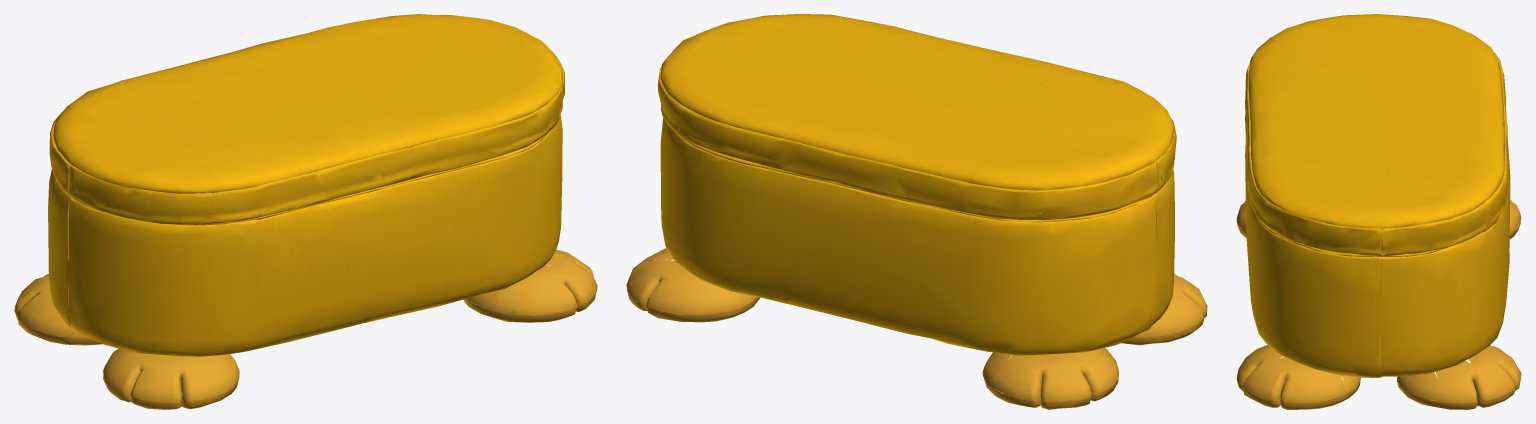
Rendered from 20 - GREJSIMOJS Pouffe with storage - yellow.glb.
3 views of the same model, side by side, from view 1: azimuth 30°, elevation 25°; view 2: azimuth 150°, elevation 25°; view 3: azimuth 270°, elevation 25° (orthographic). The views are drawn at different scales.
Visible parts, largest first — view 1: ASY_ART_10603180_S01_NV01; view 2: ASY_ART_10603180_S01_NV01; view 3: ASY_ART_10603180_S01_NV01.
Boxes of the visible parts, bbox=[...] form: ASY_ART_10603180_S01_NV01: bbox=[14, 14, 597, 409]; ASY_ART_10603180_S01_NV01: bbox=[626, 14, 1207, 409]; ASY_ART_10603180_S01_NV01: bbox=[1236, 14, 1521, 409].
Bounding box in the file's own units: 0.5812 × 0.2487 × 0.3272.
Materials: 1 (1 with a texture image).
